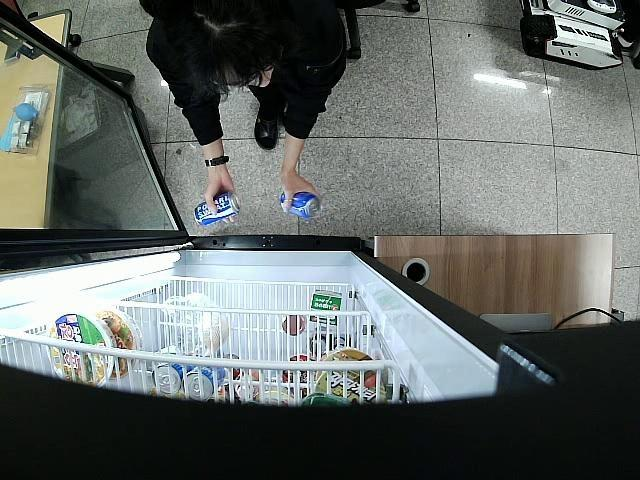13_pocariSweat: (192, 190, 241, 228), (280, 190, 322, 220)
